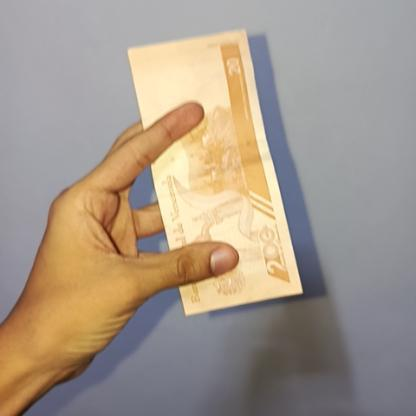twenty-back-vef: (126, 28, 304, 317)
